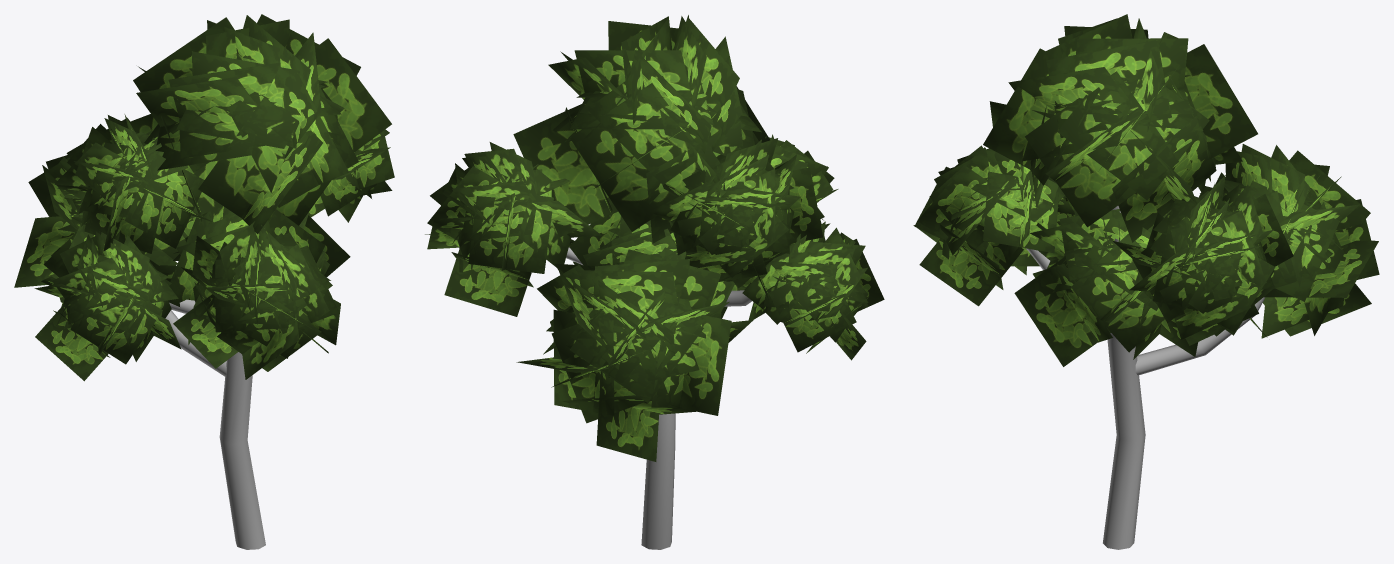
File: tree_3.fbx
The picture shows the model from 3 angles, left to right: view 1: azimuth 30°, elevation 25°; view 2: azimuth 150°, elevation 25°; view 3: azimuth 270°, elevation 25°; orthographic projection.
Parts seen in each view (by area): view 1: tree_3; view 2: tree_3; view 3: tree_3.
Boxes of the visible parts, left/top/right/bottom form: tree_3: left=14, top=14, right=394, bottom=549; tree_3: left=425, top=15, right=884, bottom=549; tree_3: left=913, top=14, right=1379, bottom=549.
Size of the model in its own units: 1720 by 2176 by 1800.
